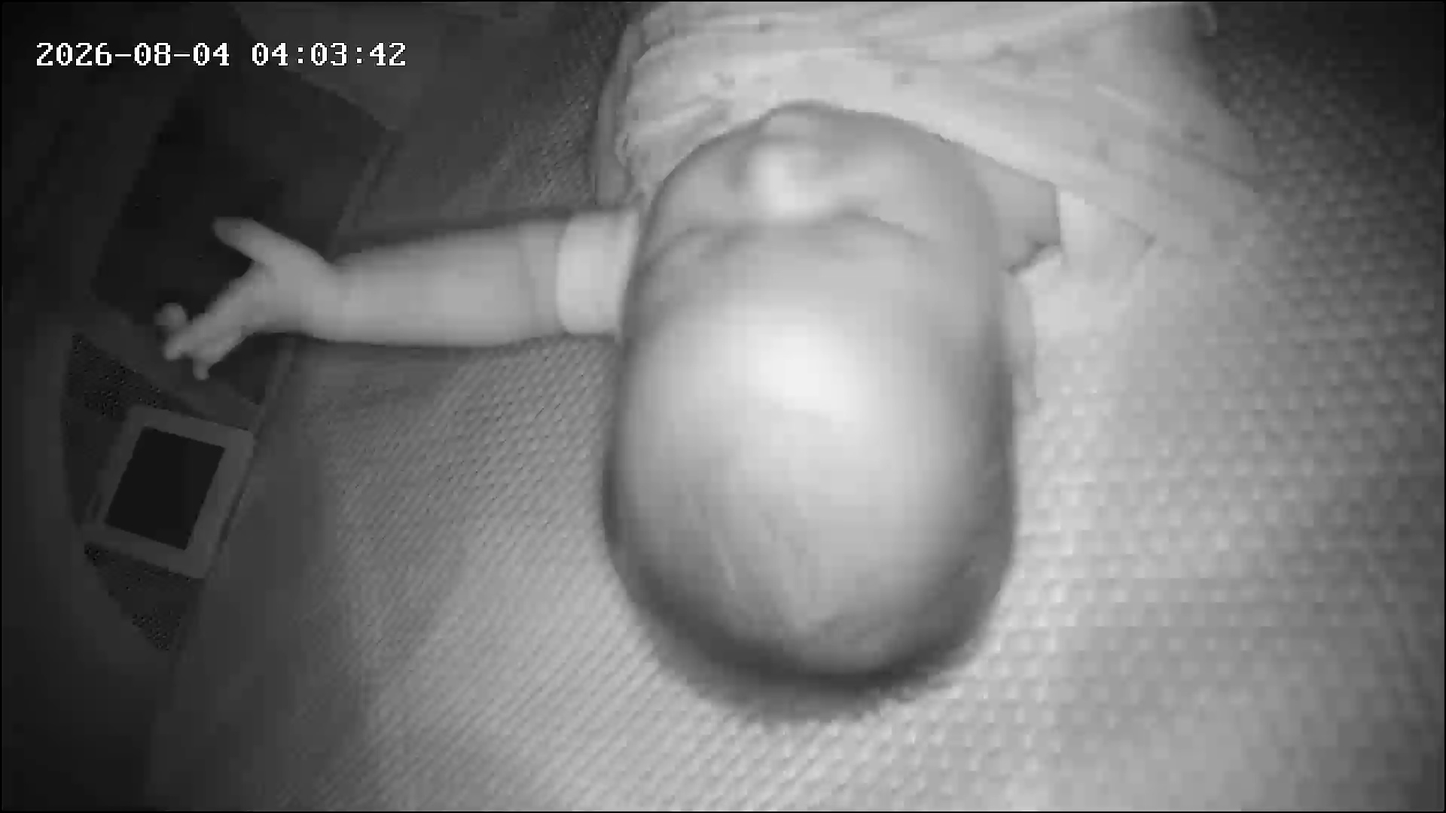baby: (92, 0, 1067, 733), (400, 0, 1268, 720)
baby_face: (586, 98, 1031, 709)
